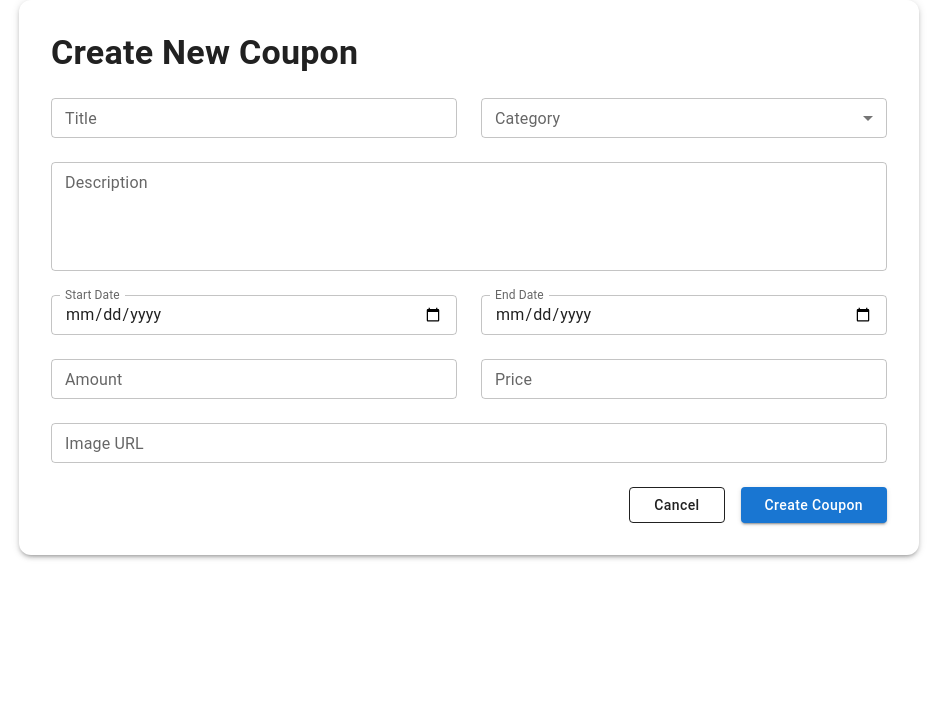
CouponForm › Date Range Validation › should show error when end date is before start date
Type "2026-03-01" into the date field labelled "Start Date".
click(254, 315); type("2026-03-01")  # box x1=51 y1=295 x2=457 y2=335
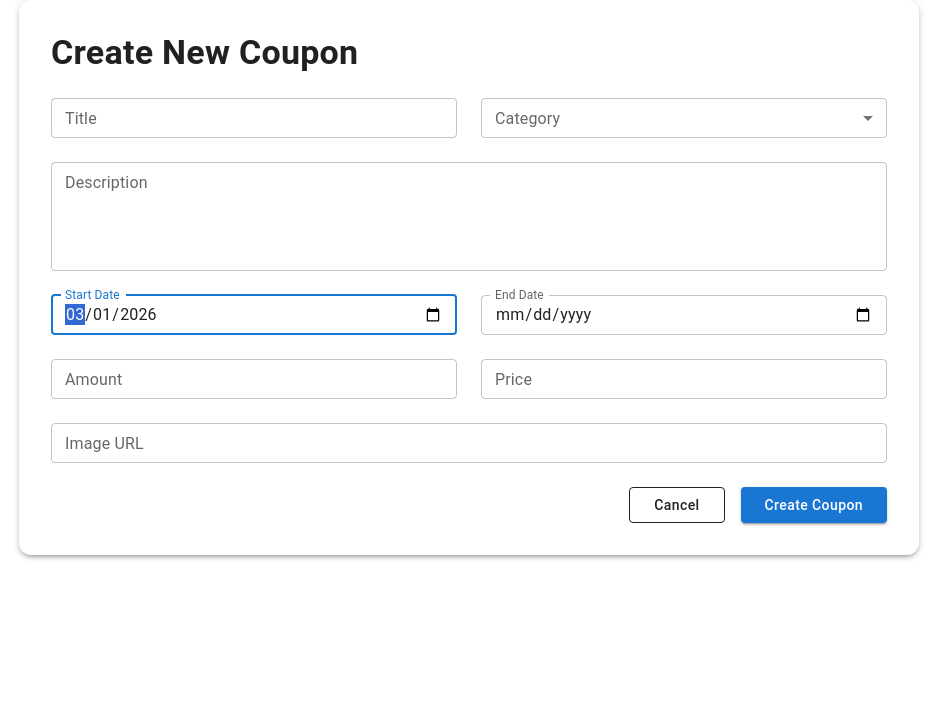
Type "2026-02-01" into the date field labelled "End Date".
click(684, 315); type("2026-02-01")  # box x1=481 y1=295 x2=887 y2=335
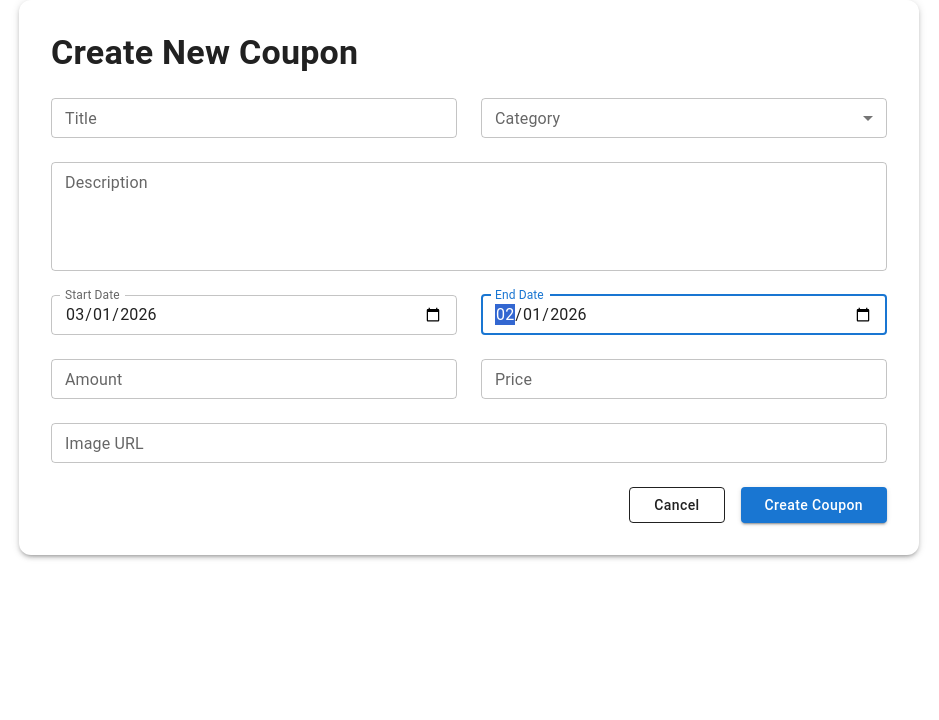
Click the button "Create Coupon".
click(814, 505)  # box x1=741 y1=487 x2=887 y2=524
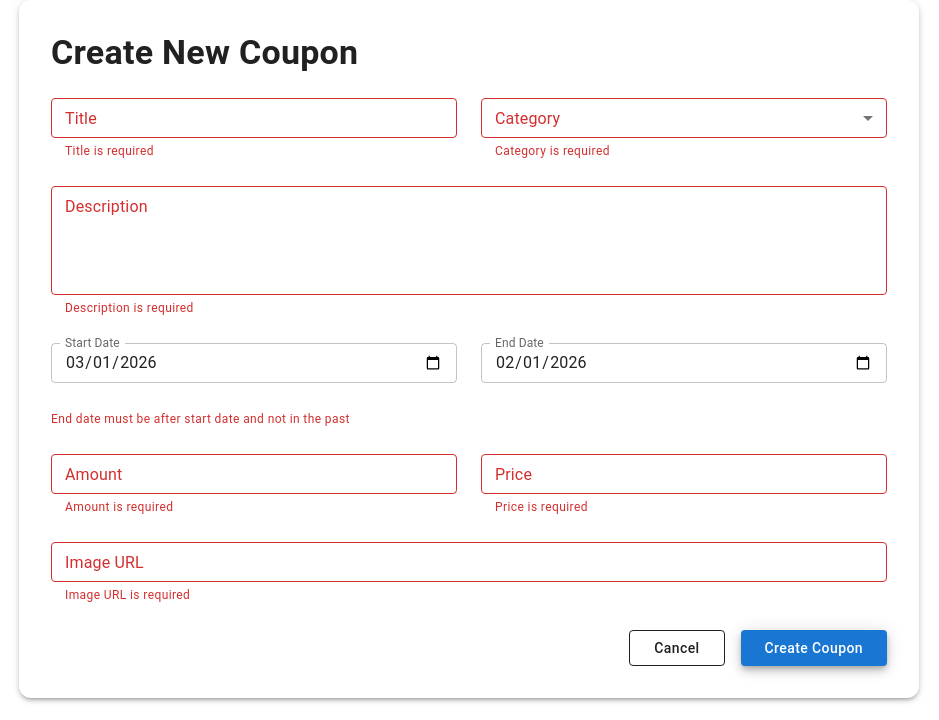
Result: the text "End date must be after start date and not in the past" is shown at x1=51 y1=412 x2=350 y2=426
